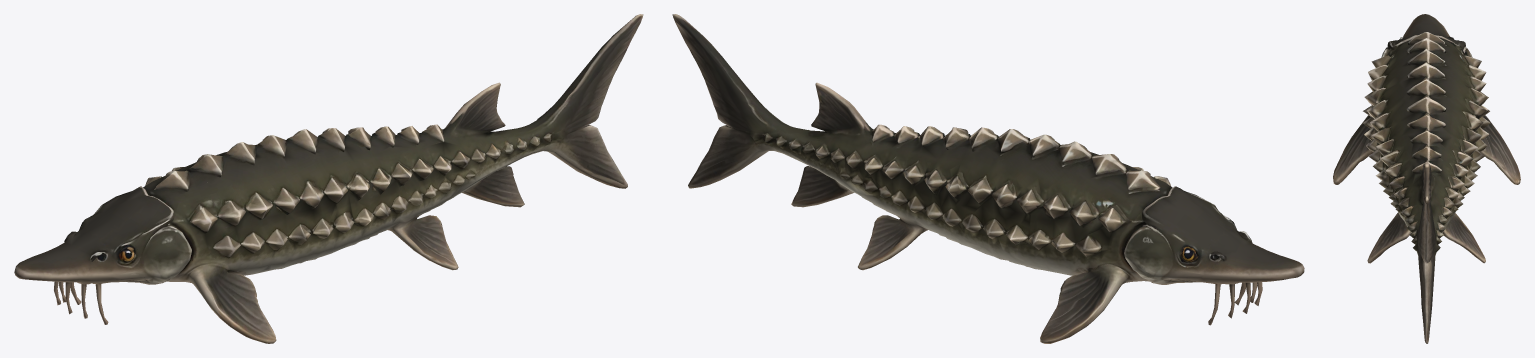
File: fish-osetr.glb
3 renders of one model, left to right at view 1: azimuth 30°, elevation 25°; view 2: azimuth 150°, elevation 25°; view 3: azimuth 270°, elevation 25°, orthographic. The views are drawn at different scales.
Parts seen in each view (by area): view 1: tripo_node_e3691d48-4670-46da-b1b9-0bafa1f9138c; view 2: tripo_node_e3691d48-4670-46da-b1b9-0bafa1f9138c; view 3: tripo_node_e3691d48-4670-46da-b1b9-0bafa1f9138c.
Part boxes in pixels (x1,y1,x2,y2): tripo_node_e3691d48-4670-46da-b1b9-0bafa1f9138c: (14,14,643,343); tripo_node_e3691d48-4670-46da-b1b9-0bafa1f9138c: (672,14,1304,343); tripo_node_e3691d48-4670-46da-b1b9-0bafa1f9138c: (1333,14,1520,343).
Size of the model in its own units: 1 by 0.2891 by 0.2879.
Materials: 1 (1 with a texture image).
